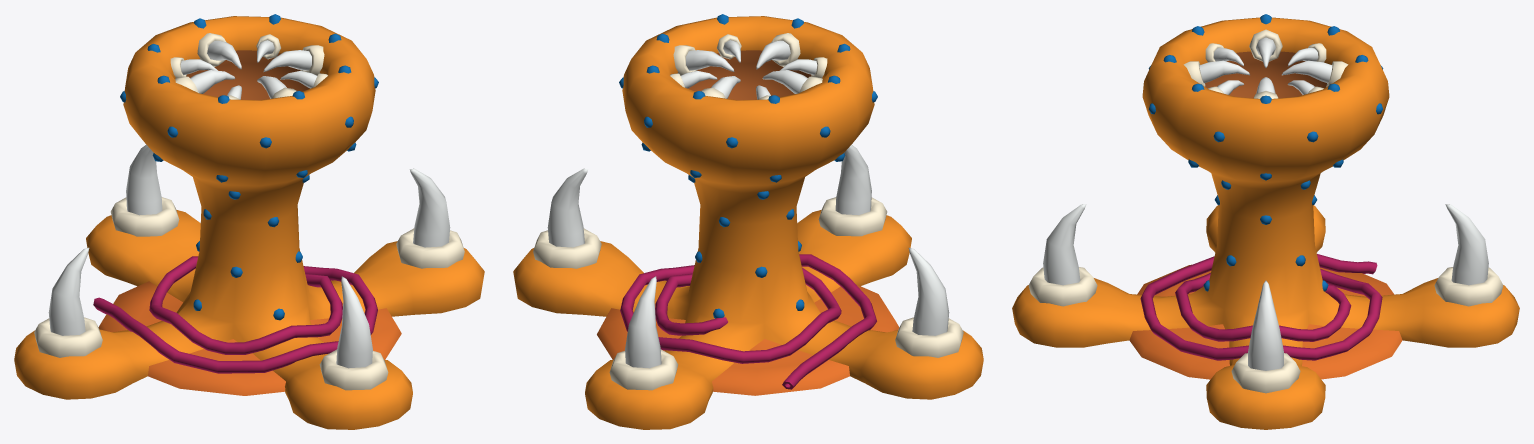
Rendered from Plant_7_orange.fbx.
3 views of the same model, side by side, from view 1: azimuth 30°, elevation 25°; view 2: azimuth 150°, elevation 25°; view 3: azimuth 270°, elevation 25° (orthographic). The views are drawn at different scales.
Parts seen in each view (by area): view 1: Plant_7_orange; view 2: Plant_7_orange; view 3: Plant_7_orange.
Part boxes in pixels (x1,y1,x2,y2): Plant_7_orange: (14,14,484,429); Plant_7_orange: (513,14,983,429); Plant_7_orange: (1012,14,1519,429).
Bounding box in the file's own units: 4.45 × 2.6 × 4.45.
